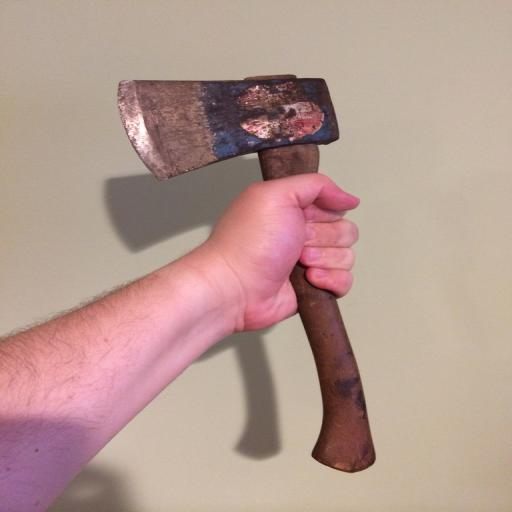Axe: (114, 71, 380, 475)
